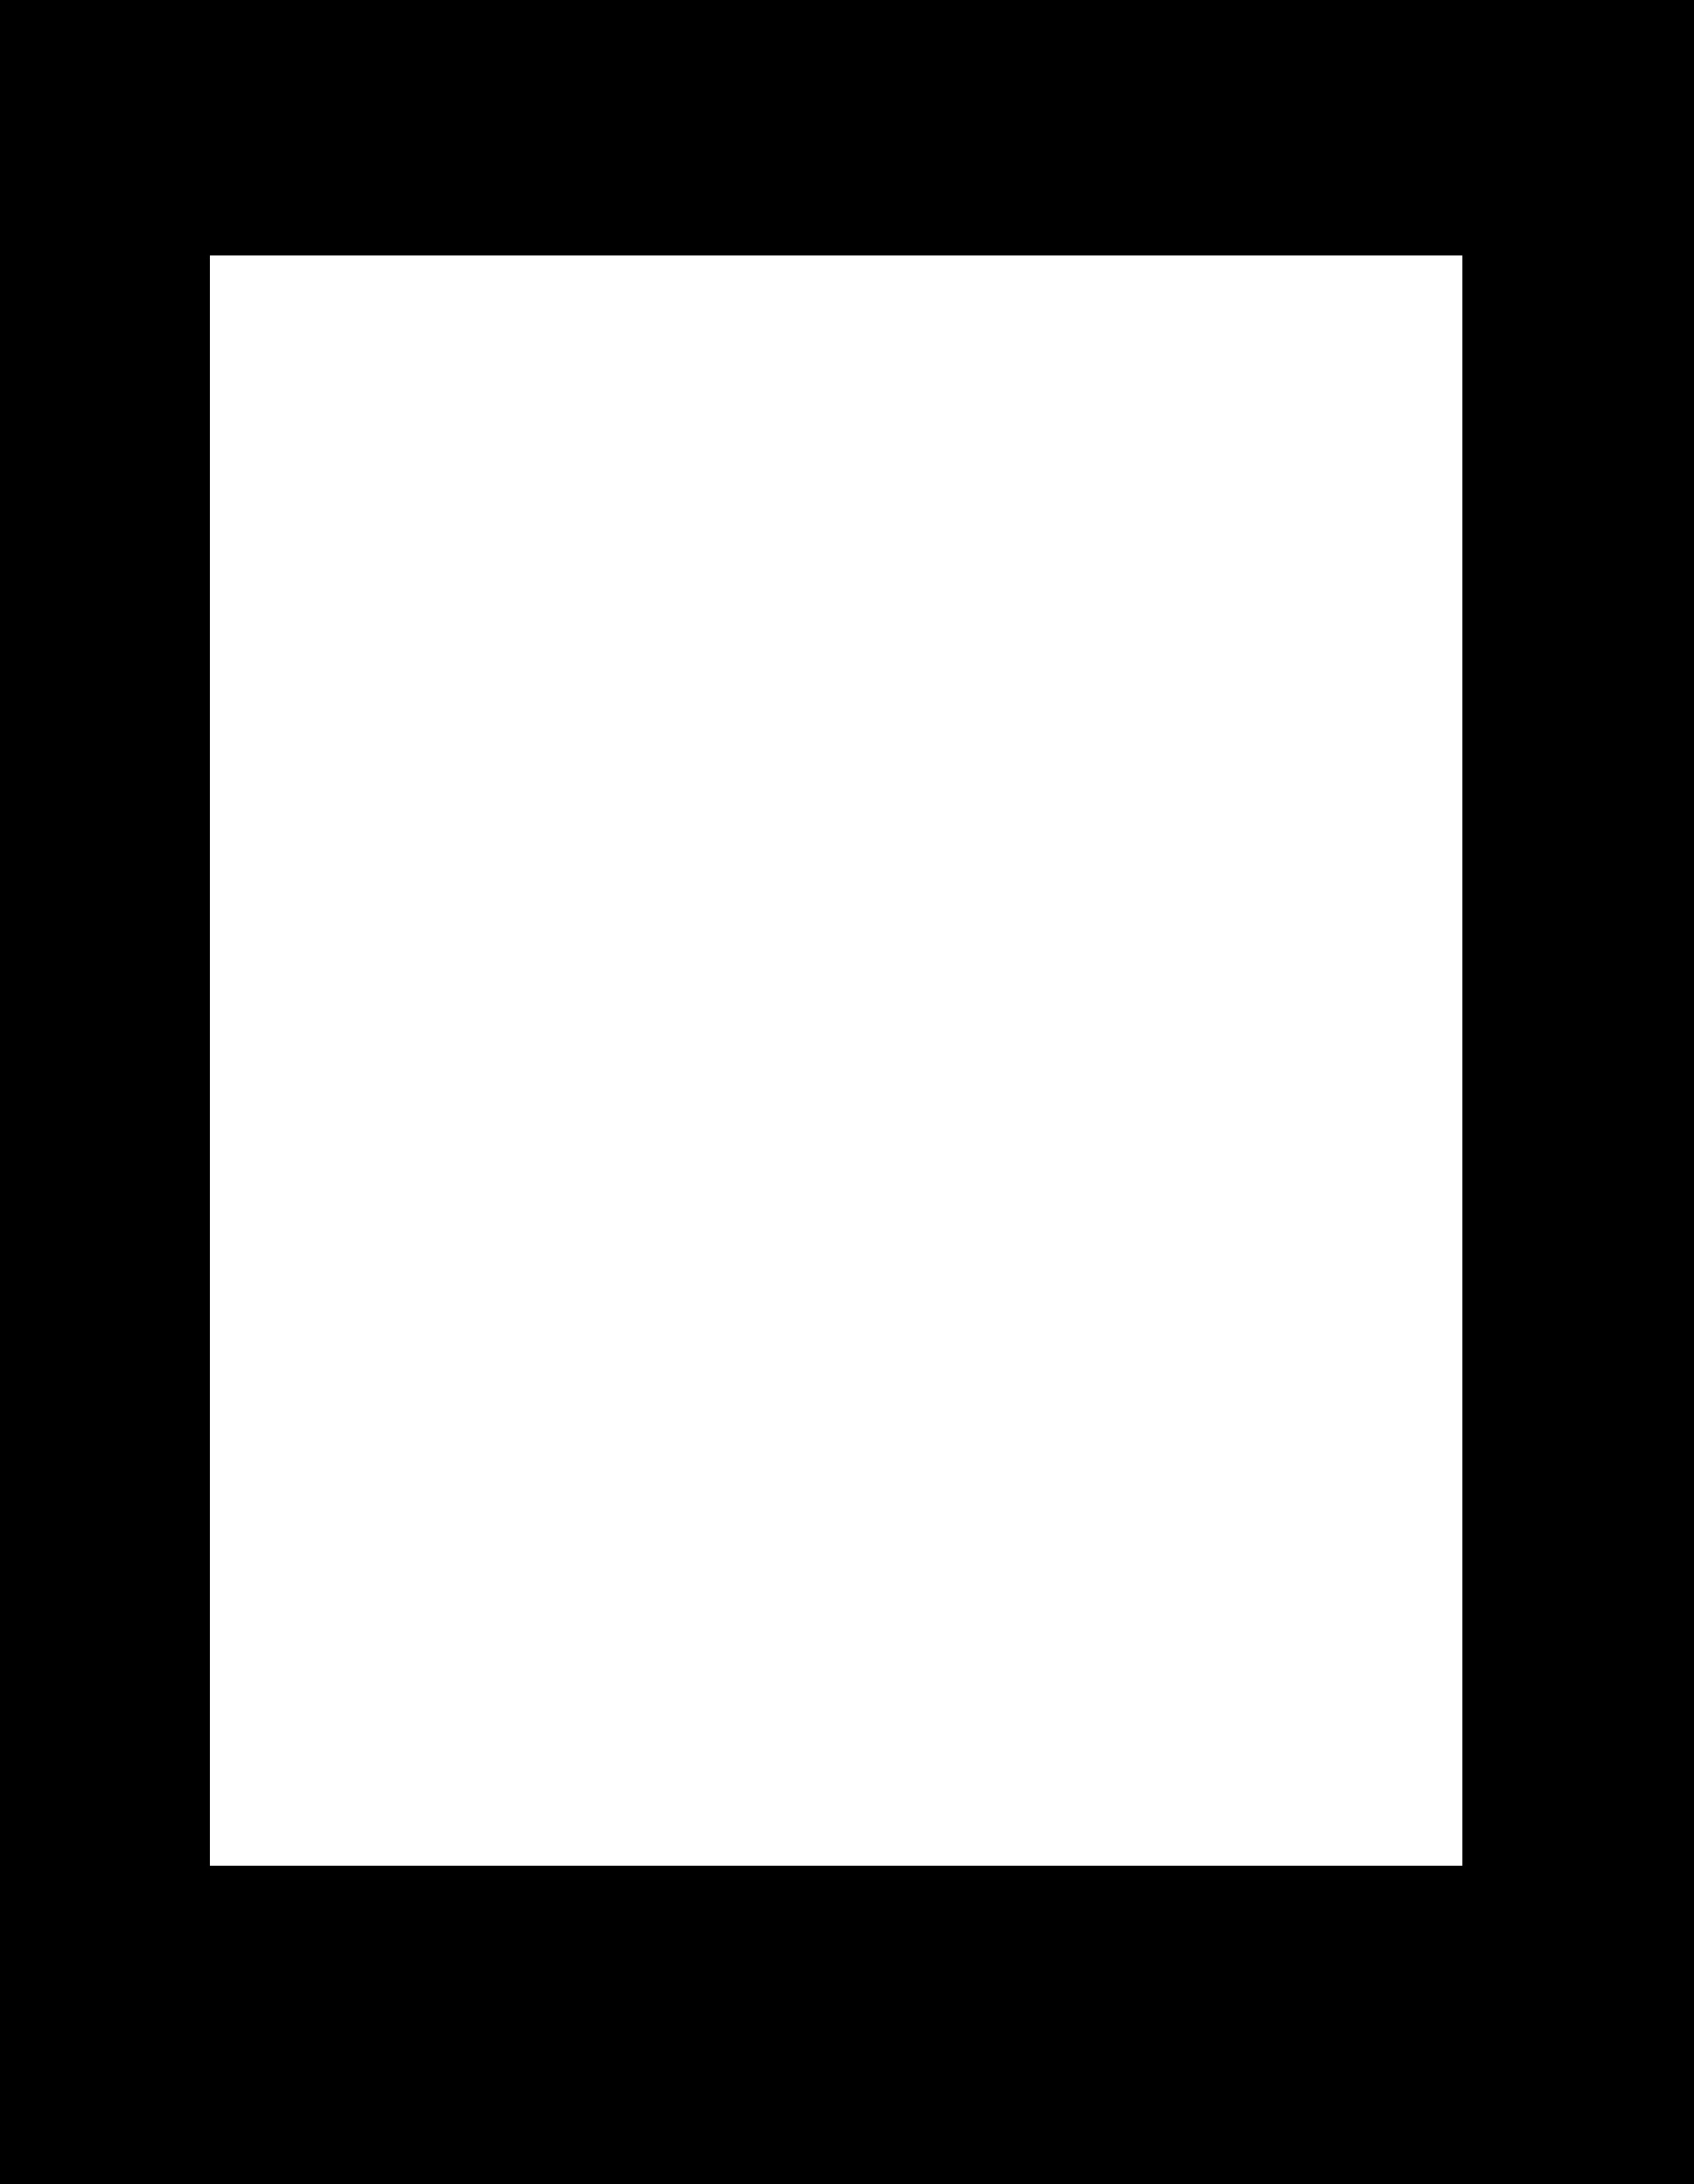table: (209, 255, 1462, 1865)
